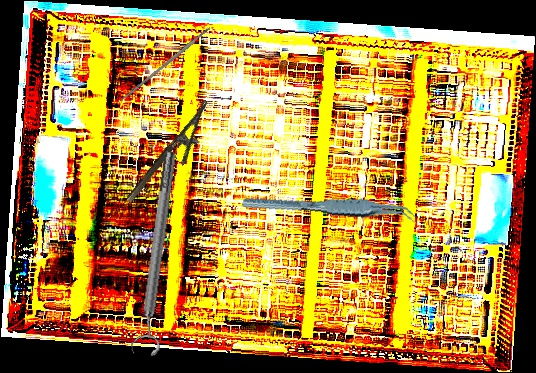Fixation Ring: (126, 149, 189, 358)
Needle Holder: (124, 99, 225, 214)
Scalpel Handle: (119, 26, 212, 103)
Tissue Forceps: (241, 178, 419, 238)
